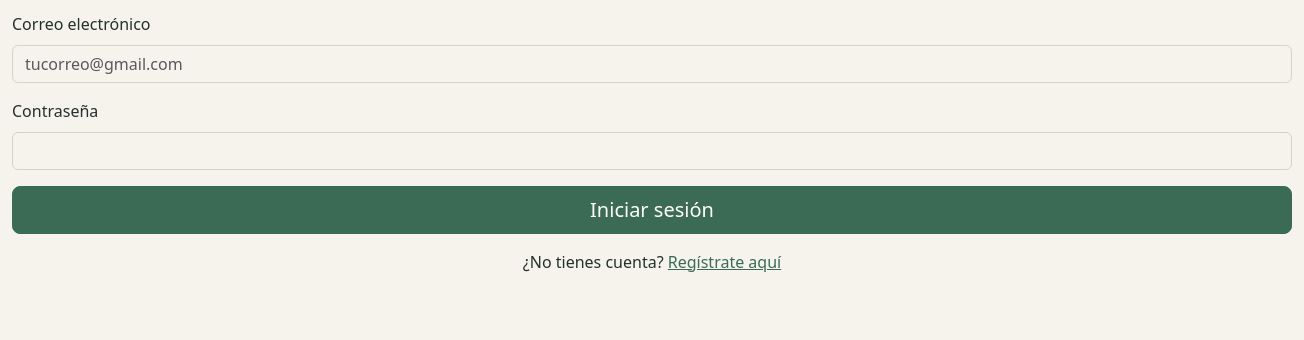
organismo FormularioLogin › muestra los mensajes de error si se envía vacío y no intenta iniciar sesión
Click the button "Iniciar sesión" at point(652, 210), box [12,186,1292,234]
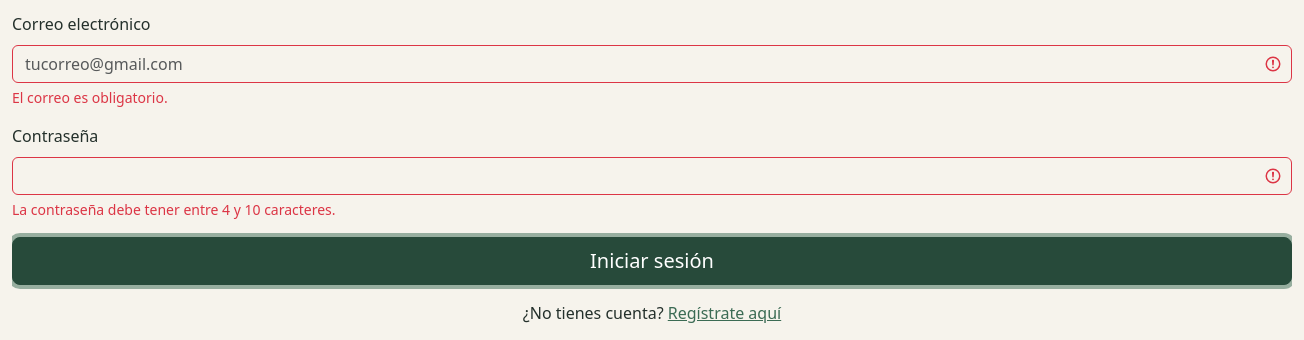
Now the text "El correo es obligatorio." is shown, box [12,88,168,107]
Now the text "La contraseña debe tener entre 4 y 10 caracteres." is shown, box [12,200,336,219]
